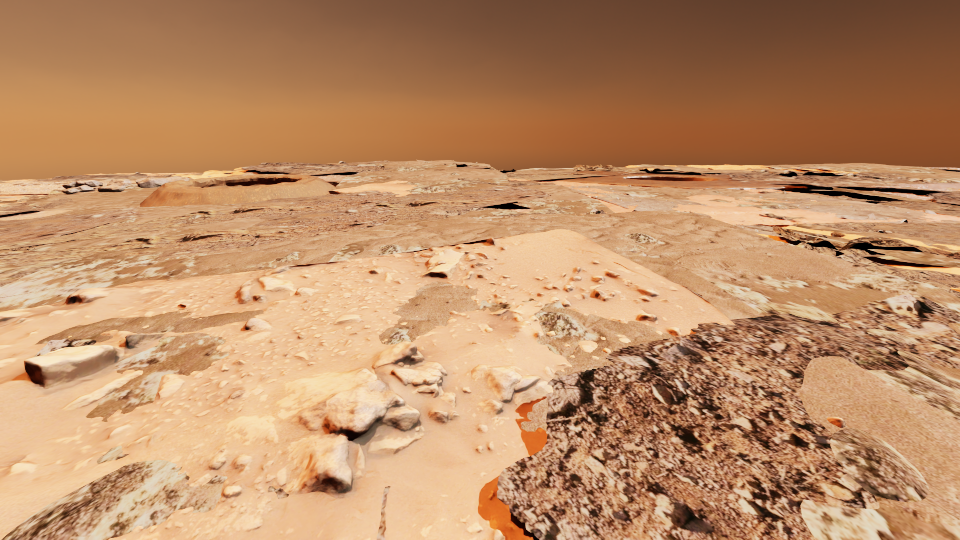bedrock: (497, 294, 959, 539), (735, 225, 959, 296), (0, 229, 297, 264), (744, 191, 959, 235), (716, 169, 959, 204), (0, 172, 170, 193), (567, 185, 706, 210), (146, 206, 321, 221), (238, 161, 392, 178), (457, 173, 604, 185), (0, 197, 72, 214), (373, 199, 488, 209), (392, 207, 487, 219), (34, 339, 95, 356), (0, 235, 67, 248), (759, 213, 805, 221), (572, 165, 631, 171), (455, 162, 495, 169), (635, 168, 684, 173), (17, 195, 47, 201), (85, 225, 111, 230), (124, 251, 155, 255), (694, 211, 711, 217), (933, 168, 959, 171), (586, 209, 605, 213), (499, 169, 515, 173), (831, 232, 845, 236)
hole: (623, 175, 718, 180)
rocks: (62, 179, 131, 193), (135, 176, 189, 187)
sand: (0, 180, 959, 327), (799, 350, 959, 539), (1, 460, 226, 539), (86, 332, 229, 421), (0, 183, 296, 225), (534, 301, 674, 377), (16, 219, 302, 250), (379, 281, 511, 344), (35, 309, 263, 344), (329, 160, 531, 196), (617, 163, 959, 181), (860, 249, 959, 274), (141, 167, 284, 179), (815, 187, 925, 200), (521, 398, 548, 432), (867, 329, 916, 343), (97, 446, 128, 463), (508, 168, 575, 173), (921, 213, 959, 221), (268, 486, 288, 498), (573, 188, 614, 192), (948, 323, 959, 333), (873, 225, 893, 229), (835, 251, 843, 256), (188, 215, 201, 218)
soil: (0, 238, 734, 539), (0, 171, 551, 260), (505, 171, 832, 192), (882, 222, 959, 246), (7, 255, 89, 265), (877, 200, 959, 209), (94, 330, 136, 344), (887, 183, 959, 189), (0, 190, 60, 194), (323, 169, 362, 175), (579, 340, 597, 352), (345, 160, 391, 164), (827, 417, 845, 427), (157, 374, 167, 390), (0, 179, 39, 183), (449, 166, 488, 170), (0, 277, 22, 283), (835, 187, 878, 190), (935, 211, 959, 216), (618, 334, 630, 342), (918, 193, 932, 196), (603, 348, 610, 352), (547, 331, 554, 335)
